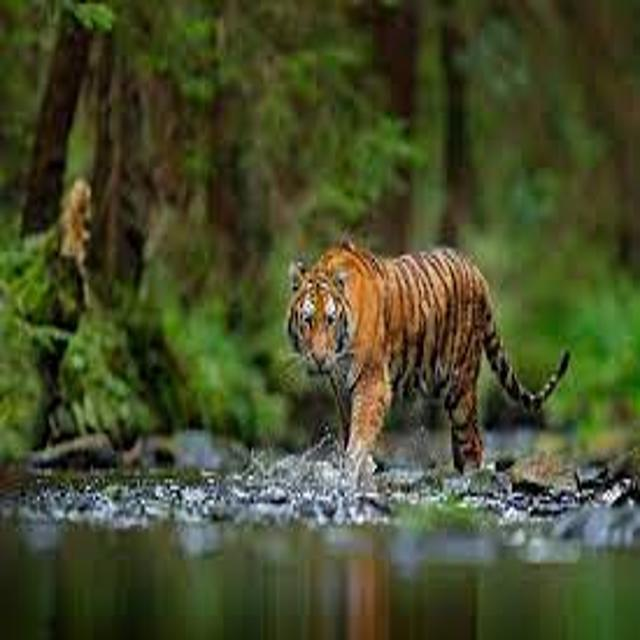Tiger: (242, 230, 588, 476)
